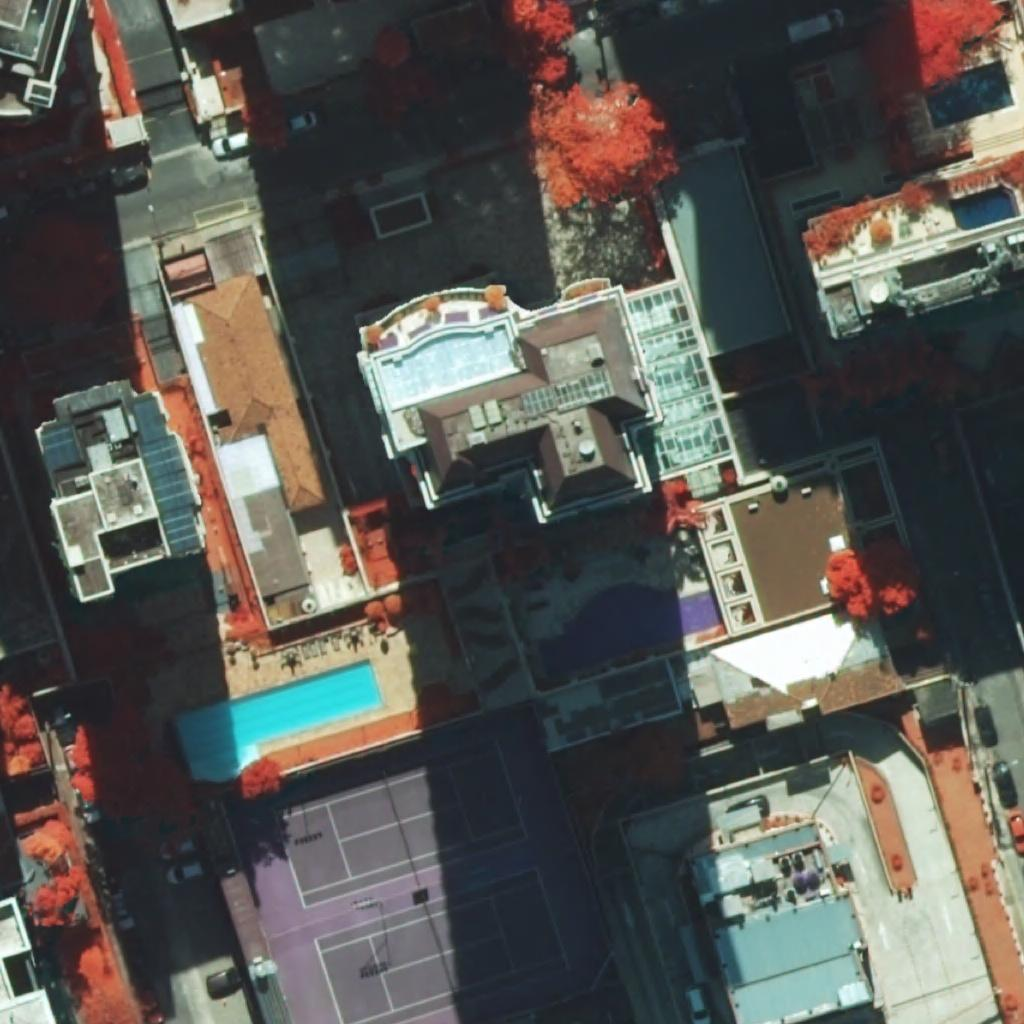pool: (174, 658, 383, 783), (539, 583, 724, 678), (925, 60, 1014, 130), (949, 185, 1021, 231)
